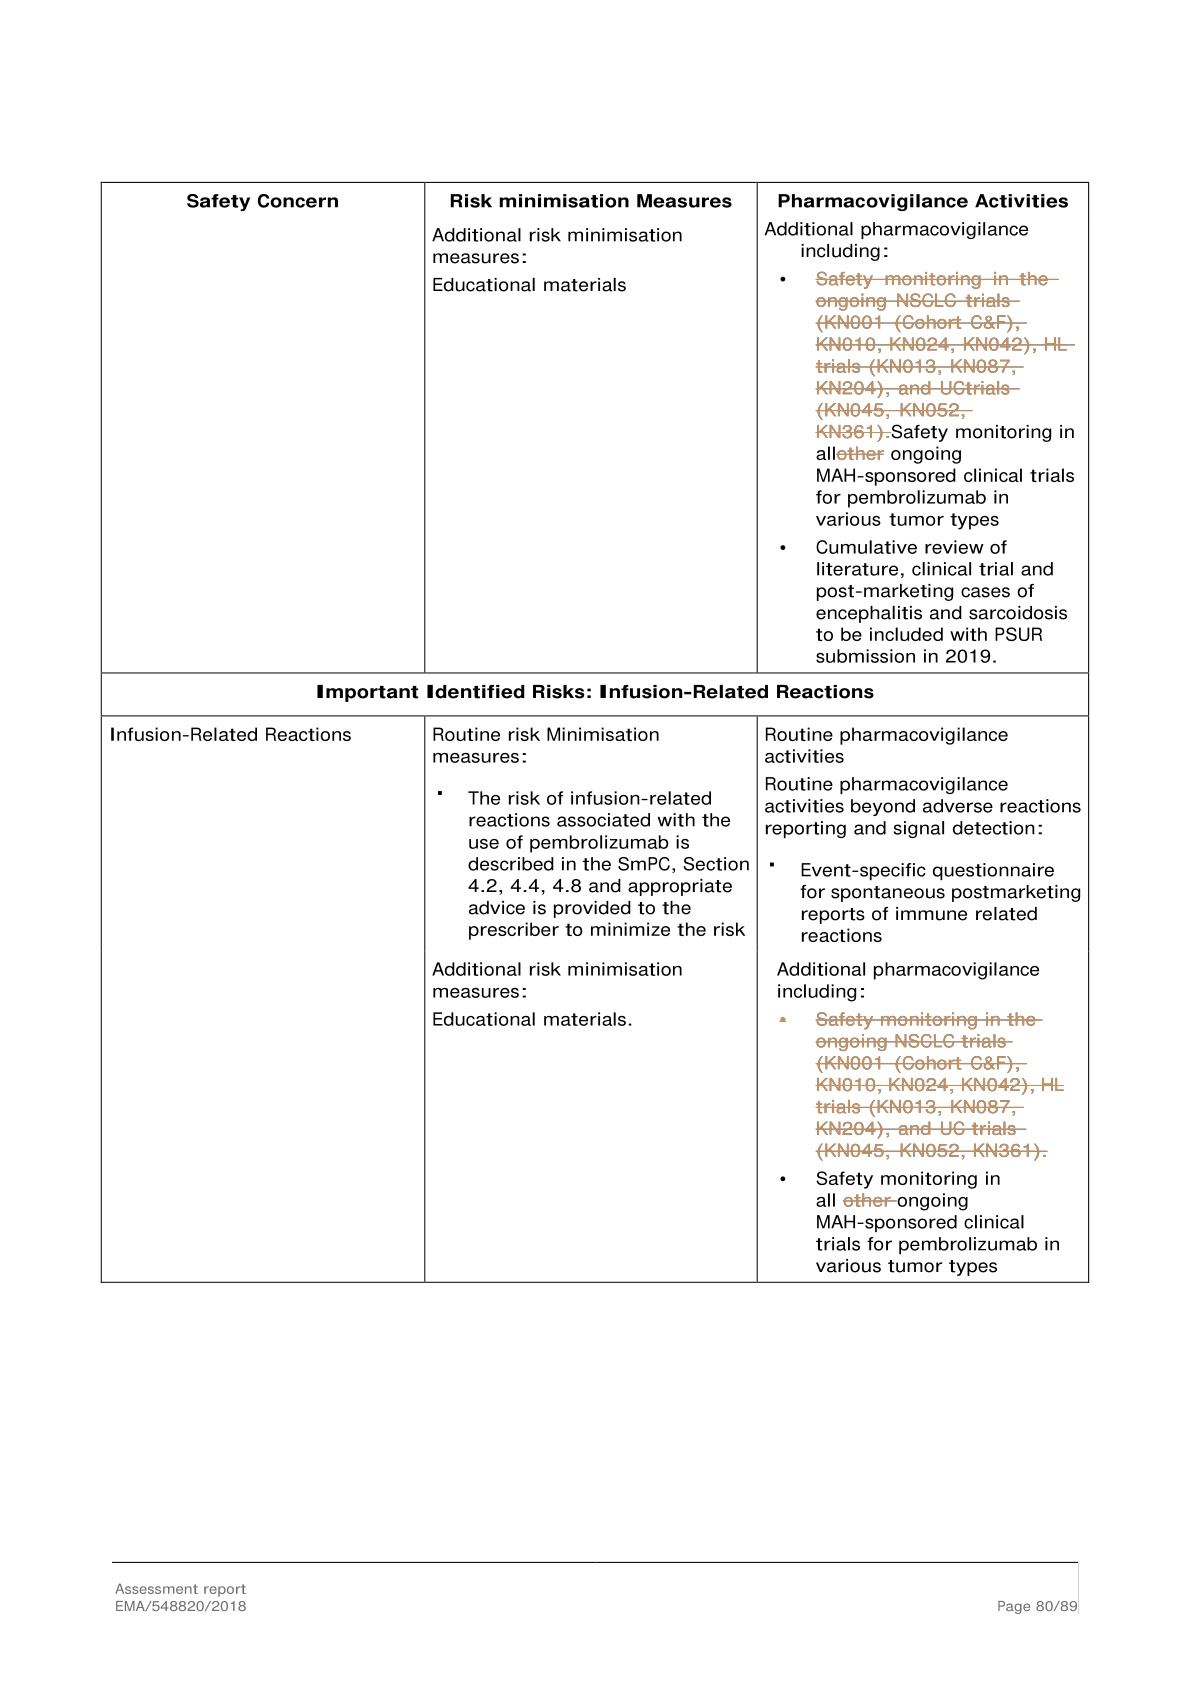merged_cells: (99, 179, 1091, 1284)
